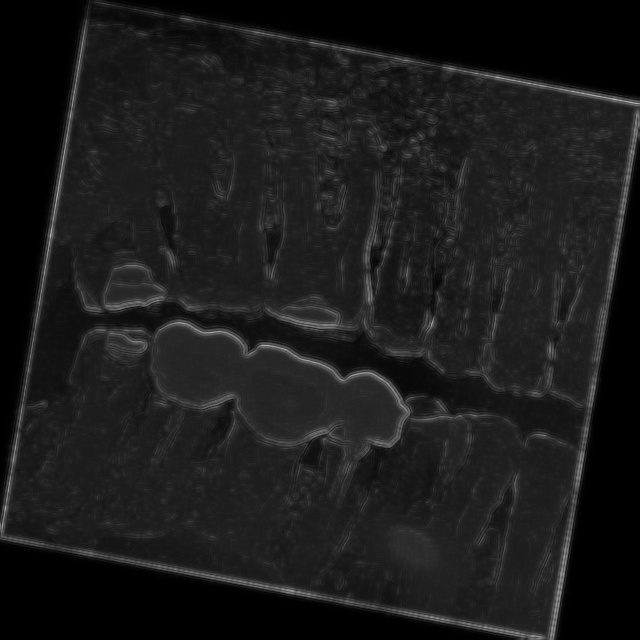Class 1- complete endodontic treatment: (287, 351, 413, 582)
Class 2- incomplete endodontic treatment: (104, 301, 254, 519)
cavity: (243, 90, 419, 344), (41, 91, 211, 337), (200, 331, 352, 544)
